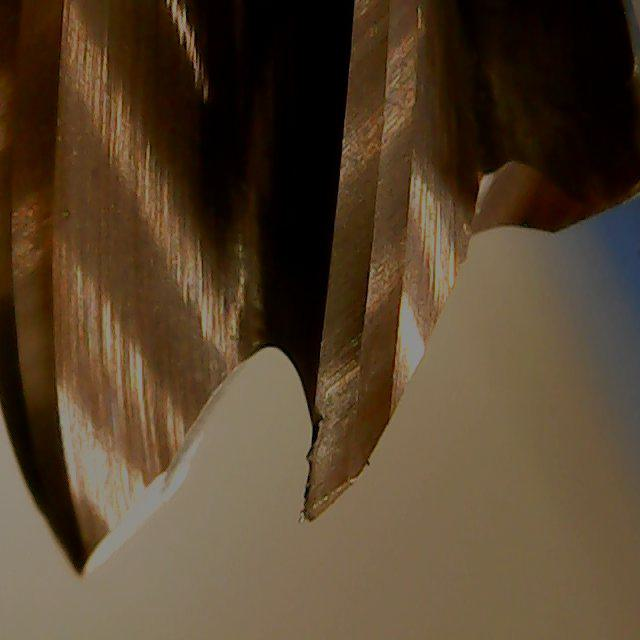Tool-wear-class-1: (298, 281, 409, 524)
